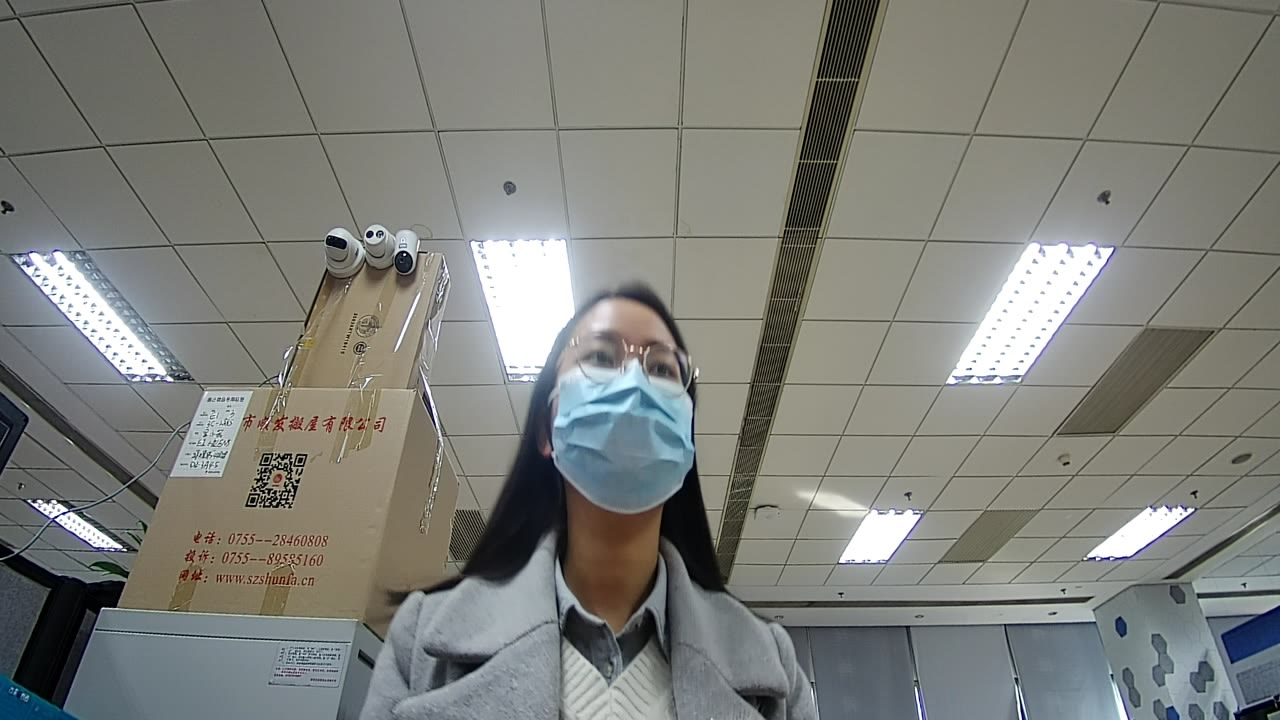face: (543, 283, 716, 517)
mask: (554, 372, 692, 517)
person: (378, 290, 824, 719)
